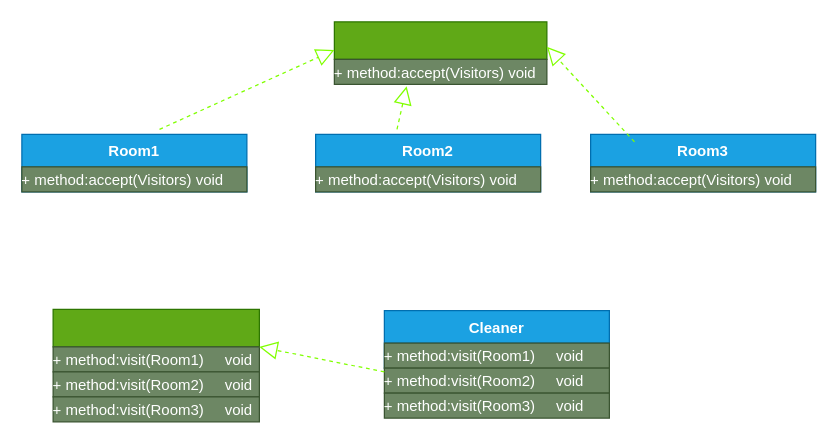
This 838x444 diagram has some shape labels left out. The shapes that lost their labels are listed below. From the top down, each one's centre as x and y in pixels, then its label:
At point (440, 40): "«interface» Office".
At point (155, 327): "«interface» Visitors".
